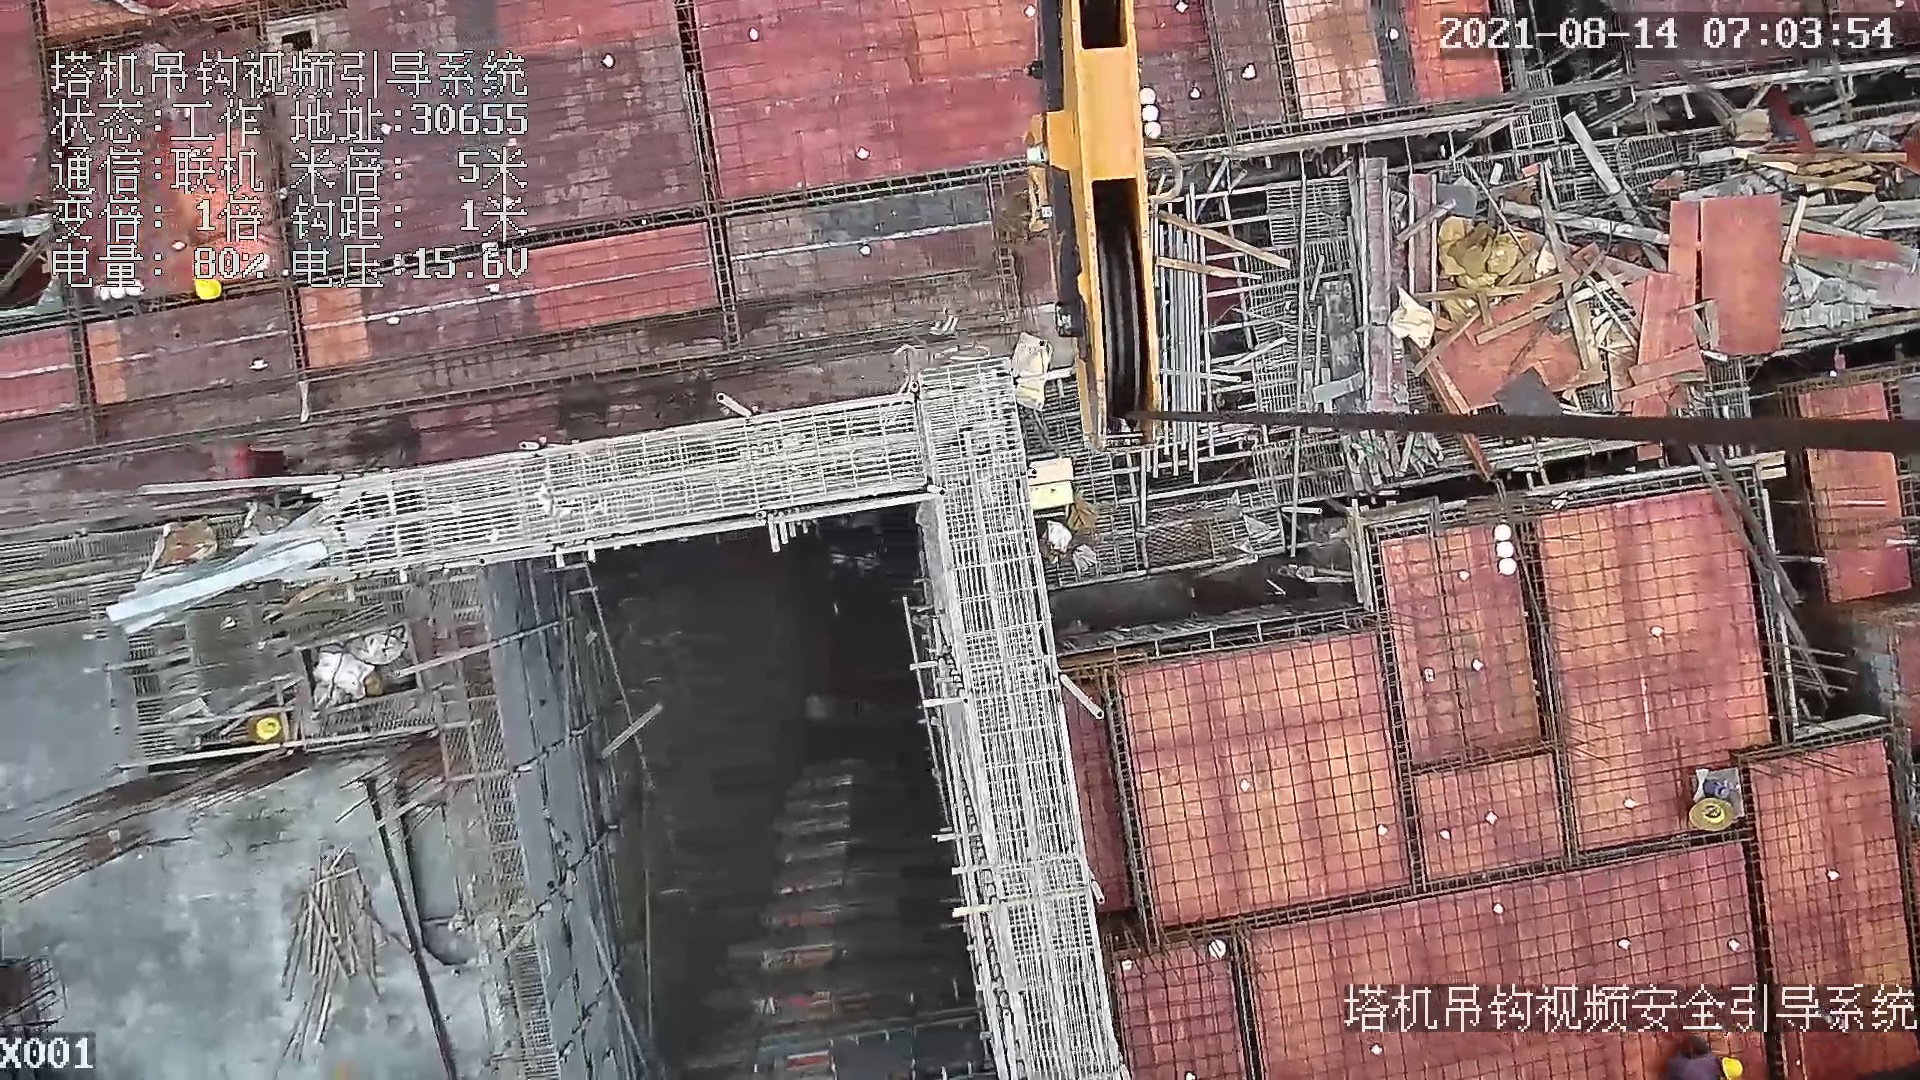helmet: (189, 275, 227, 302), (1719, 1052, 1745, 1080)
hook: (1008, 1, 1164, 451)
person: (1657, 1036, 1746, 1080)
